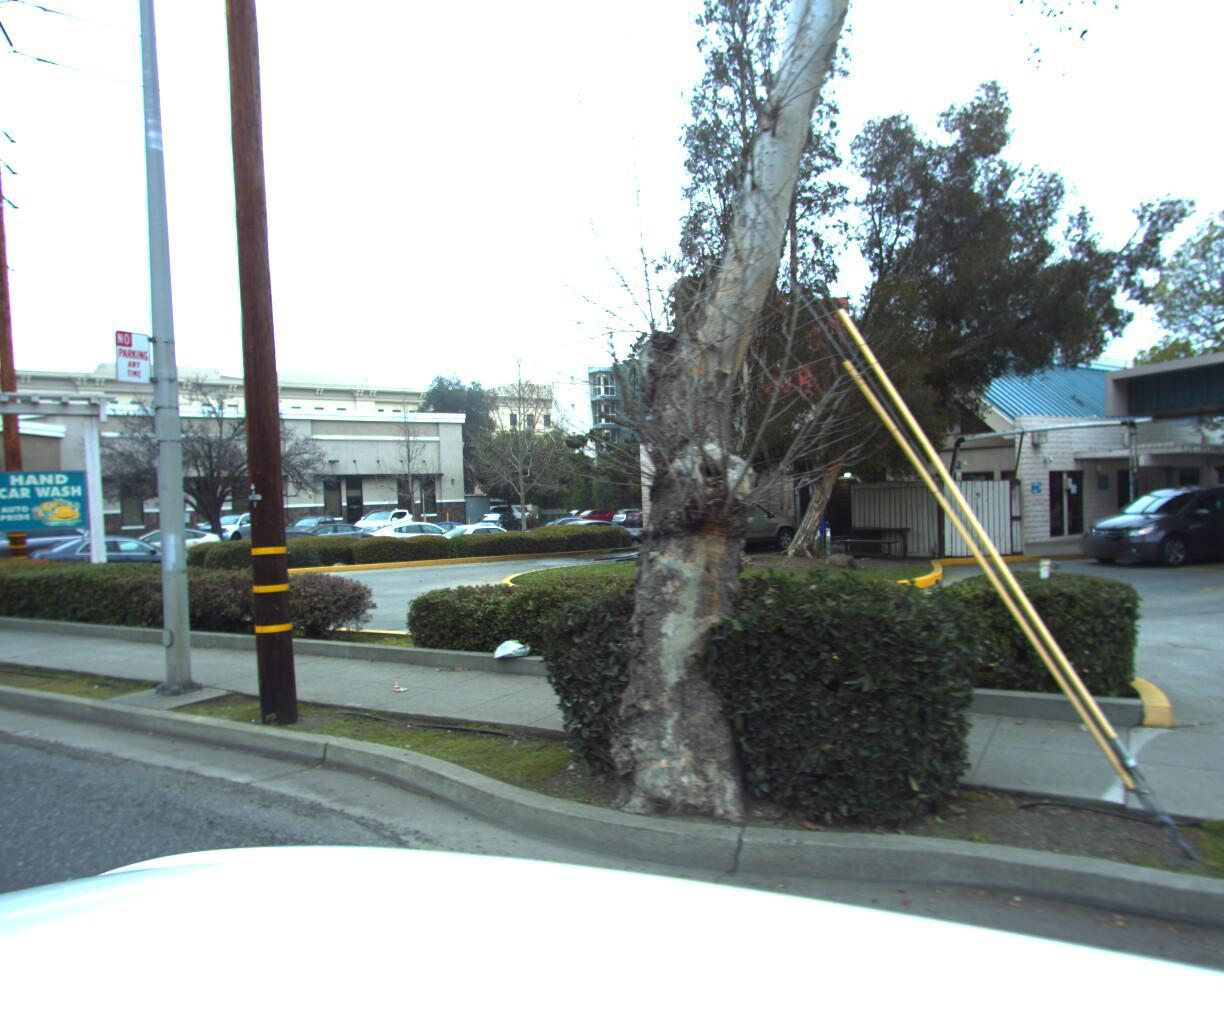car: (27, 523, 211, 588), (650, 481, 809, 554), (216, 516, 371, 573), (0, 513, 108, 578), (415, 514, 545, 562), (103, 519, 228, 565), (357, 511, 479, 556), (260, 513, 387, 554), (542, 508, 650, 546), (189, 505, 282, 544), (386, 513, 485, 544), (346, 499, 420, 532), (0, 528, 27, 581), (620, 499, 682, 520)
